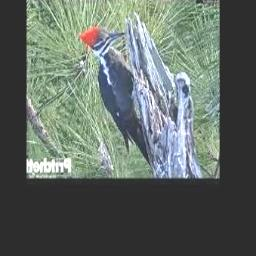Woodpecker: (79, 26, 153, 169)
